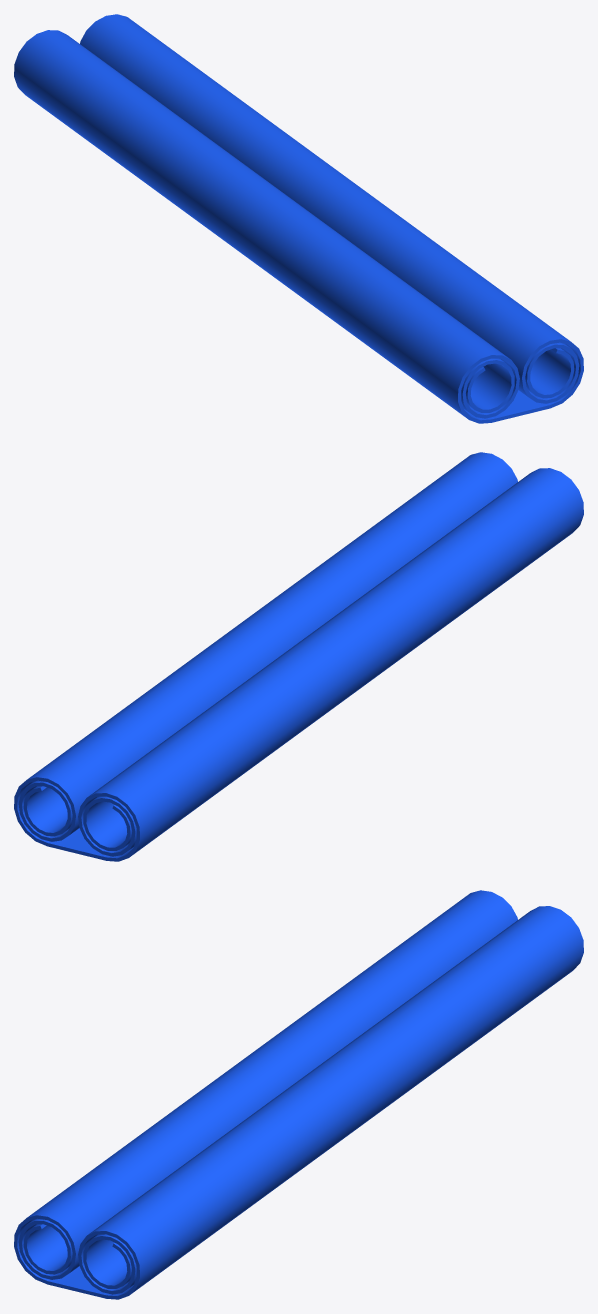
File: SM_Blueprint_02.FBX
3 renders of one model, top to bottom at view 1: azimuth 30°, elevation 25°; view 2: azimuth 150°, elevation 25°; view 3: azimuth 330°, elevation 25°, orthographic.
Visible parts, largest first — view 1: Plane001; view 2: Plane001; view 3: Plane001.
Boxes of the visible parts, x1,y1,x2,y2 form: Plane001: [14, 14, 583, 423]; Plane001: [14, 452, 583, 861]; Plane001: [14, 890, 583, 1299].
Size of the model in its own units: 8.03 by 4.13 by 48.98.
